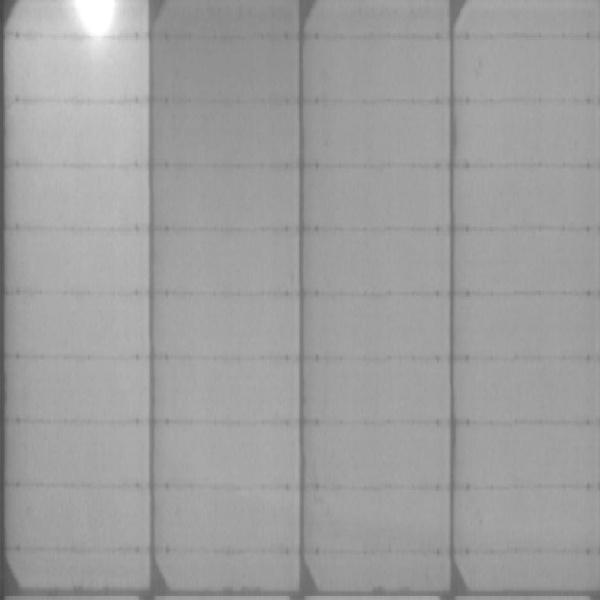hot_spot: (71, 1, 118, 34)
